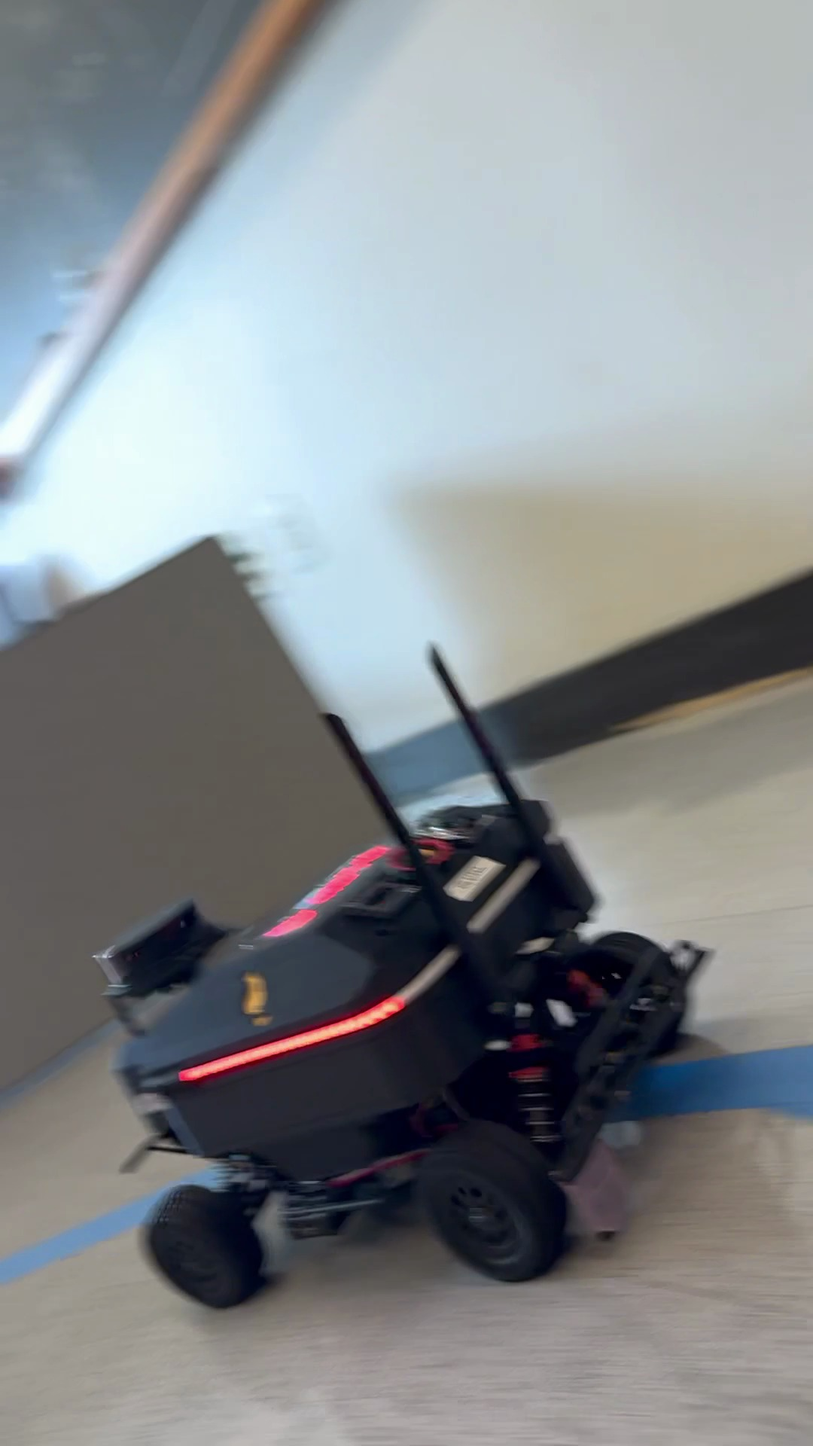racecar: (86, 643, 707, 1301)
